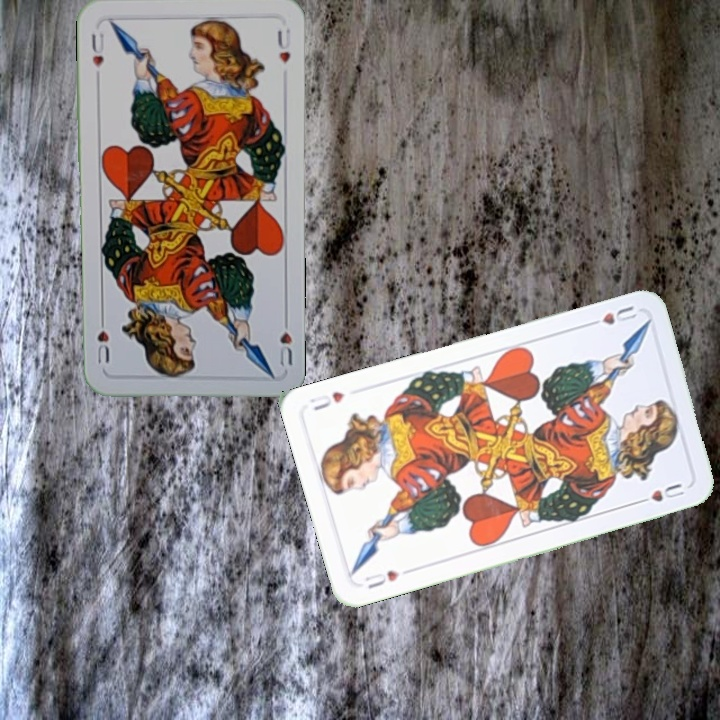HU: (582, 302, 640, 329), (274, 311, 295, 370), (360, 566, 402, 592), (87, 29, 106, 71)
